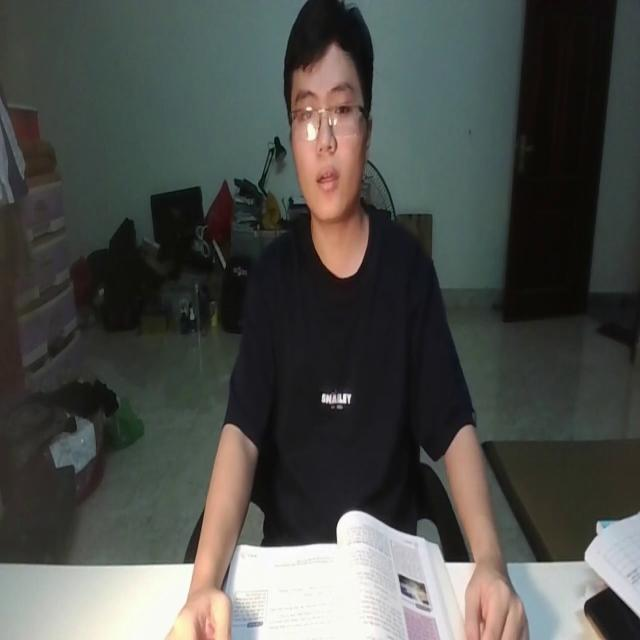book: (223, 508, 464, 640)
student: (163, 0, 531, 640)
